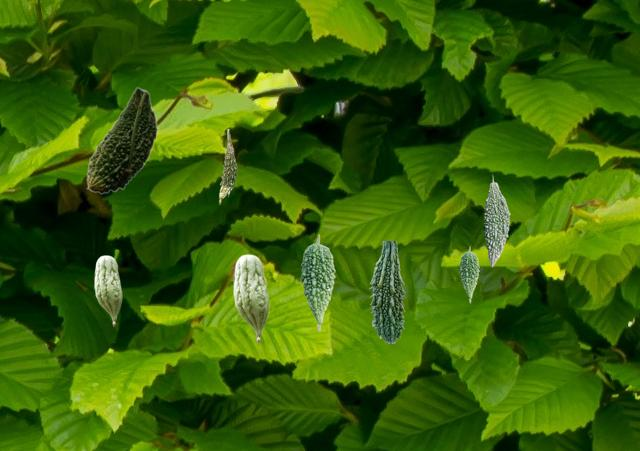ampalaya: (86, 87, 157, 193), (369, 241, 404, 342), (300, 234, 334, 331), (233, 254, 268, 342), (483, 174, 509, 266), (94, 255, 121, 325), (219, 129, 236, 203), (459, 246, 478, 302)
